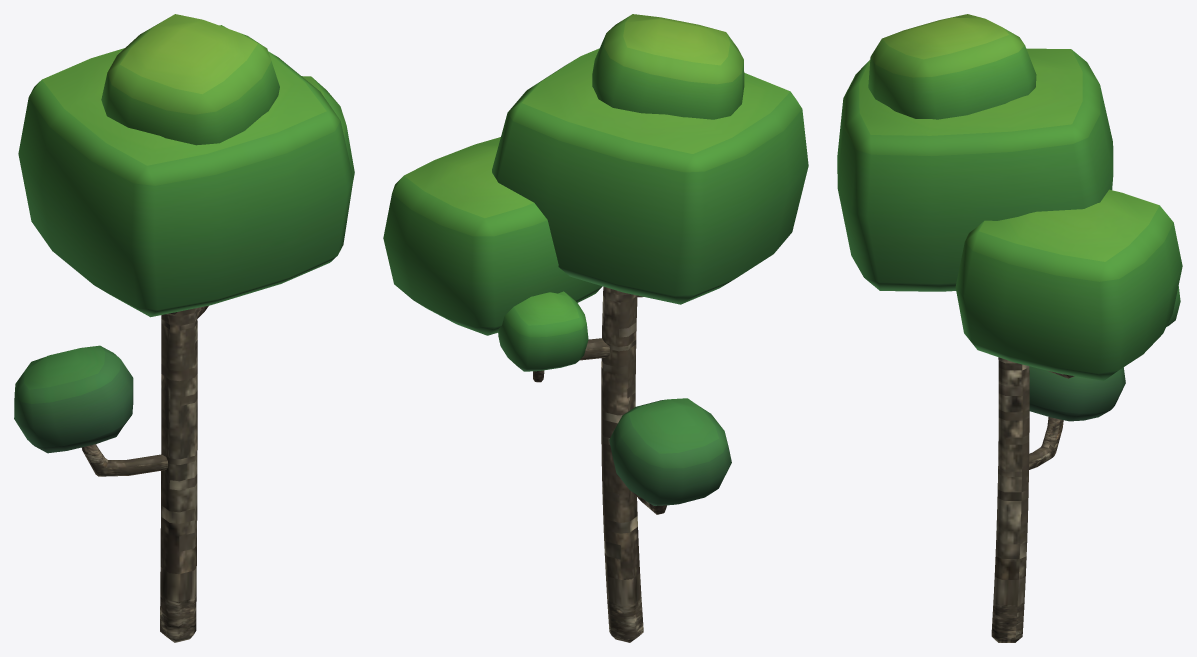
Rendered from birch_tree_02.fbx.
The picture shows the model from 3 angles, left to right: view 1: azimuth 30°, elevation 25°; view 2: azimuth 150°, elevation 25°; view 3: azimuth 270°, elevation 25°; orthographic projection. The views are drawn at different scales.
Visible parts, largest first — view 1: birch_tree_SC_free; view 2: birch_tree_SC_free; view 3: birch_tree_SC_free.
Boxes of the visible parts, left/top/right/bottom form: birch_tree_SC_free: left=14, top=14, right=354, bottom=642; birch_tree_SC_free: left=383, top=14, right=808, bottom=642; birch_tree_SC_free: left=837, top=14, right=1182, bottom=642.
Size of the model in its own units: 263 by 468 by 242.
